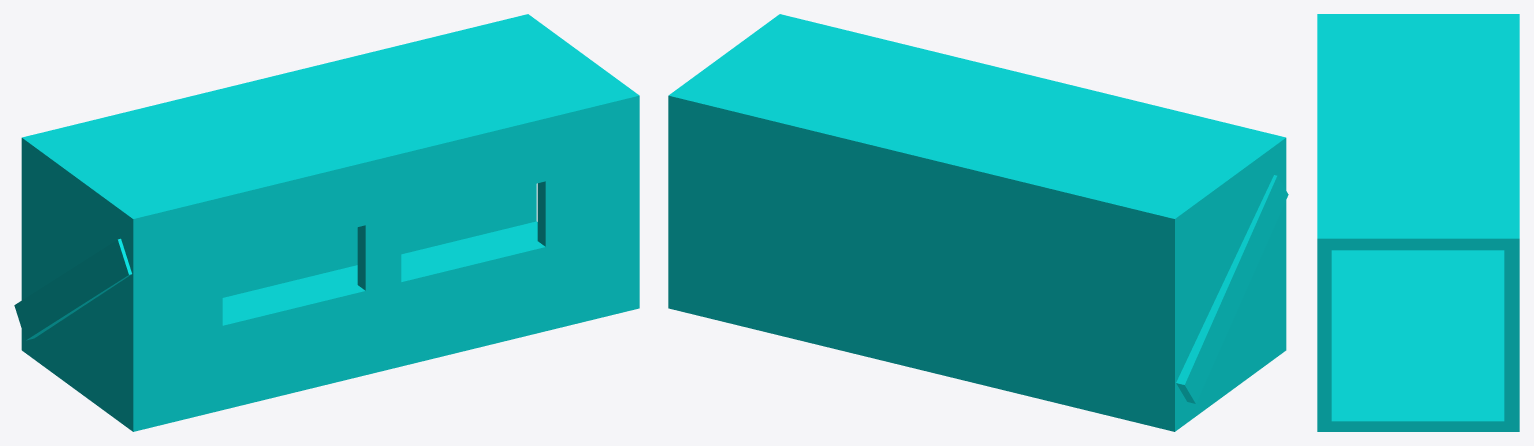
File: SM_Bld_Building_14_Collision.fbx
3 views of the same model, side by side, from view 1: azimuth 30°, elevation 25°; view 2: azimuth 150°, elevation 25°; view 3: azimuth 270°, elevation 25° (orthographic). The views are drawn at different scales.
Parts seen in each view (by area): view 1: SM_Bld_Building_14_Collision; view 2: SM_Bld_Building_14_Collision; view 3: SM_Bld_Building_14_Collision.
Boxes of the visible parts, x1=… form: SM_Bld_Building_14_Collision: x1=14, y1=14, x2=639, y2=431; SM_Bld_Building_14_Collision: x1=668, y1=14, x2=1288, y2=431; SM_Bld_Building_14_Collision: x1=1317, y1=14, x2=1519, y2=431.
Size of the model in its own units: 659 by 260 by 247.
